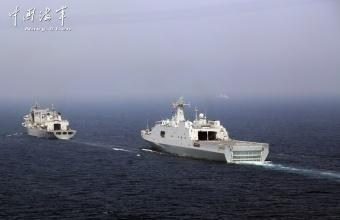warship: (135, 97, 285, 163), (19, 100, 80, 146)
